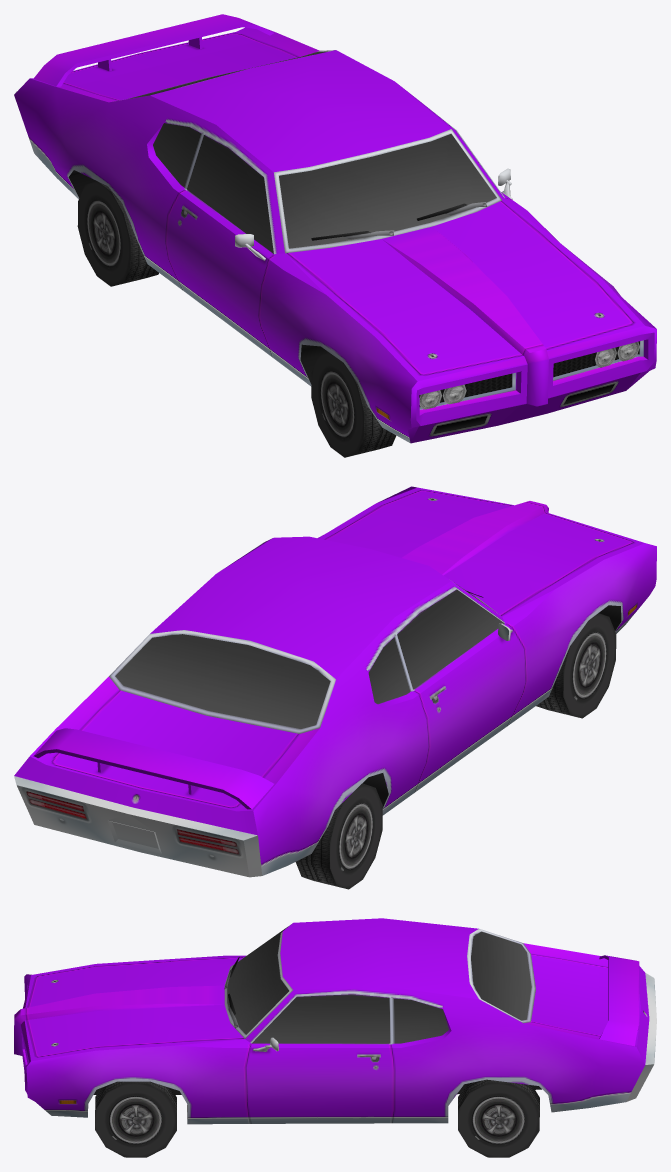
The model's file is Classic_Muscle_Car_LOD1.fbx.
The picture shows the model from 3 angles, top to bottom: view 1: azimuth 30°, elevation 25°; view 2: azimuth 150°, elevation 25°; view 3: azimuth 270°, elevation 25°; orthographic projection. The views are drawn at different scales.
Visible parts, largest first — view 1: Chassis, RF_Wheel, RR_Wheel; view 2: Chassis, RR_Wheel, RF_Wheel; view 3: Chassis, LR_Wheel, LF_Wheel.
Part boxes in pixels (left/top/right/bottom): Chassis: left=14, top=14, right=656, bottom=443; RF_Wheel: left=311, top=352, right=396, bottom=457; RR_Wheel: left=77, top=181, right=158, bottom=286; Chassis: left=14, top=486, right=656, bottom=877; RR_Wheel: left=295, top=783, right=382, bottom=889; RF_Wheel: left=536, top=613, right=616, bottom=718; Chassis: left=14, top=918, right=656, bottom=1124; LR_Wheel: left=458, top=1079, right=539, bottom=1157; LF_Wheel: left=95, top=1081, right=176, bottom=1157.
Bounding box in the file's own units: 2.04 × 1.49 × 5.3.
2 materials, 2 textured.
